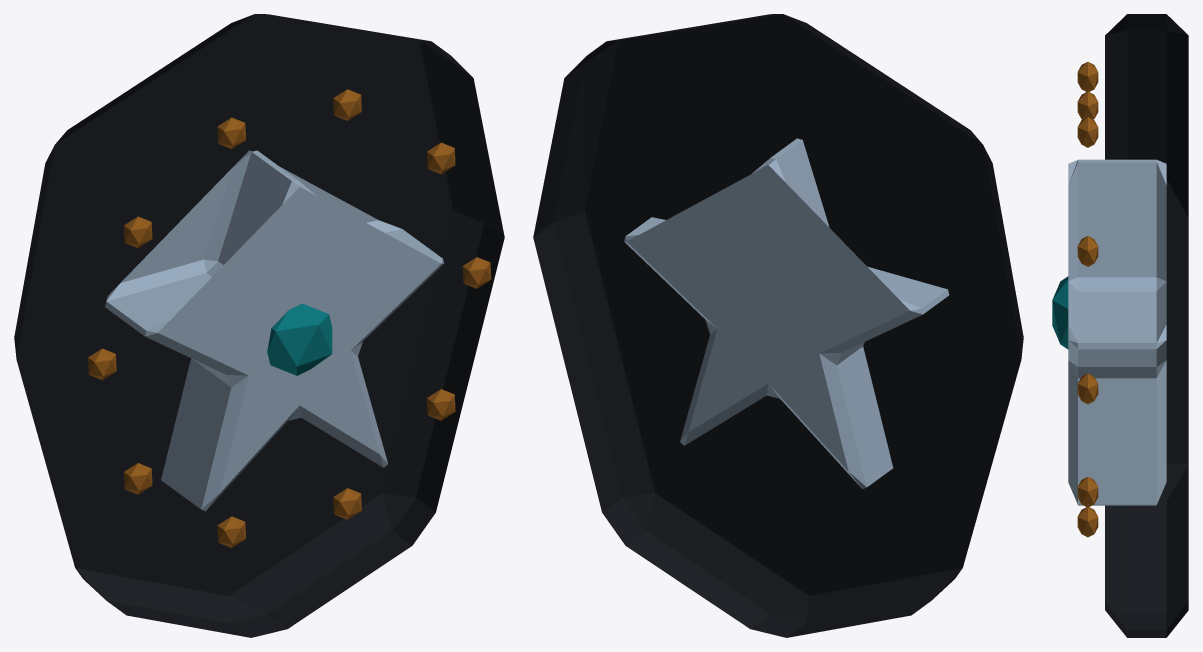
File: meteorite_plate.obj
The picture shows the model from 3 angles, left to right: view 1: azimuth 30°, elevation 25°; view 2: azimuth 150°, elevation 25°; view 3: azimuth 270°, elevation 25°; orthographic projection. The views are drawn at different scales.
Visible parts, largest first — view 1: MeteorPlate_Core.001_MAT_DarkIron, MeteorPlate_Star.001_MAT_SilverSteel, MeteorPlate_CoreGem.001_MAT_Teal, MeteorPlate_Rivet2.001_MAT_OldGold, MeteorPlate_Rivet5.001_MAT_OldGold, MeteorPlate_Rivet8.001_MAT_OldGold, MeteorPlate_Rivet3.001_MAT_OldGold, MeteorPlate_Rivet7.001_MAT_OldGold, MeteorPlate_Rivet9.001_MAT_OldGold, MeteorPlate_Rivet1.001_MAT_OldGold, MeteorPlate_Rivet6.001_MAT_OldGold, MeteorPlate_Rivet0.001_MAT_OldGold (+1 smaller); view 2: MeteorPlate_Core.001_MAT_DarkIron, MeteorPlate_Star.001_MAT_SilverSteel; view 3: MeteorPlate_Star.001_MAT_SilverSteel, MeteorPlate_Core.001_MAT_DarkIron, MeteorPlate_CoreGem.001_MAT_Teal, MeteorPlate_Rivet1.001_MAT_OldGold, MeteorPlate_Rivet8.001_MAT_OldGold, MeteorPlate_Rivet0.001_MAT_OldGold, MeteorPlate_Rivet2.001_MAT_OldGold, MeteorPlate_Rivet3.001_MAT_OldGold, MeteorPlate_Rivet9.001_MAT_OldGold, MeteorPlate_Rivet4.001_MAT_OldGold.
Part boxes in pixels (x1=…): MeteorPlate_Core.001_MAT_DarkIron: x1=14, y1=14, x2=504, y2=637; MeteorPlate_Star.001_MAT_SilverSteel: x1=105, y1=150, x2=444, y2=511; MeteorPlate_CoreGem.001_MAT_Teal: x1=267, y1=303, x2=332, y2=375; MeteorPlate_Rivet2.001_MAT_OldGold: x1=333, y1=89, x2=361, y2=120; MeteorPlate_Rivet5.001_MAT_OldGold: x1=88, y1=348, x2=116, y2=380; MeteorPlate_Rivet8.001_MAT_OldGold: x1=333, y1=488, x2=361, y2=519; MeteorPlate_Rivet3.001_MAT_OldGold: x1=217, y1=117, x2=245, y2=149; MeteorPlate_Rivet7.001_MAT_OldGold: x1=217, y1=516, x2=245, y2=547; MeteorPlate_Rivet9.001_MAT_OldGold: x1=427, y1=389, x2=455, y2=420; MeteorPlate_Rivet1.001_MAT_OldGold: x1=427, y1=142, x2=455, y2=174; MeteorPlate_Rivet6.001_MAT_OldGold: x1=123, y1=463, x2=152, y2=494; MeteorPlate_Rivet0.001_MAT_OldGold: x1=462, y1=257, x2=491, y2=288; MeteorPlate_Core.001_MAT_DarkIron: x1=533, y1=14, x2=1023, y2=637; MeteorPlate_Star.001_MAT_SilverSteel: x1=624, y1=138, x2=949, y2=489; MeteorPlate_Star.001_MAT_SilverSteel: x1=1068, y1=159, x2=1166, y2=505; MeteorPlate_Core.001_MAT_DarkIron: x1=1105, y1=14, x2=1188, y2=637; MeteorPlate_CoreGem.001_MAT_Teal: x1=1052, y1=276, x2=1068, y2=349; MeteorPlate_Rivet1.001_MAT_OldGold: x1=1077, y1=236, x2=1098, y2=266; MeteorPlate_Rivet8.001_MAT_OldGold: x1=1077, y1=507, x2=1098, y2=537; MeteorPlate_Rivet0.001_MAT_OldGold: x1=1077, y1=373, x2=1098, y2=404; MeteorPlate_Rivet2.001_MAT_OldGold: x1=1077, y1=117, x2=1098, y2=147; MeteorPlate_Rivet3.001_MAT_OldGold: x1=1077, y1=62, x2=1098, y2=92; MeteorPlate_Rivet9.001_MAT_OldGold: x1=1077, y1=477, x2=1098, y2=507; MeteorPlate_Rivet4.001_MAT_OldGold: x1=1077, y1=92, x2=1098, y2=119.
Bounding box in the file's own units: 2.16 × 2.63 × 0.5551.
